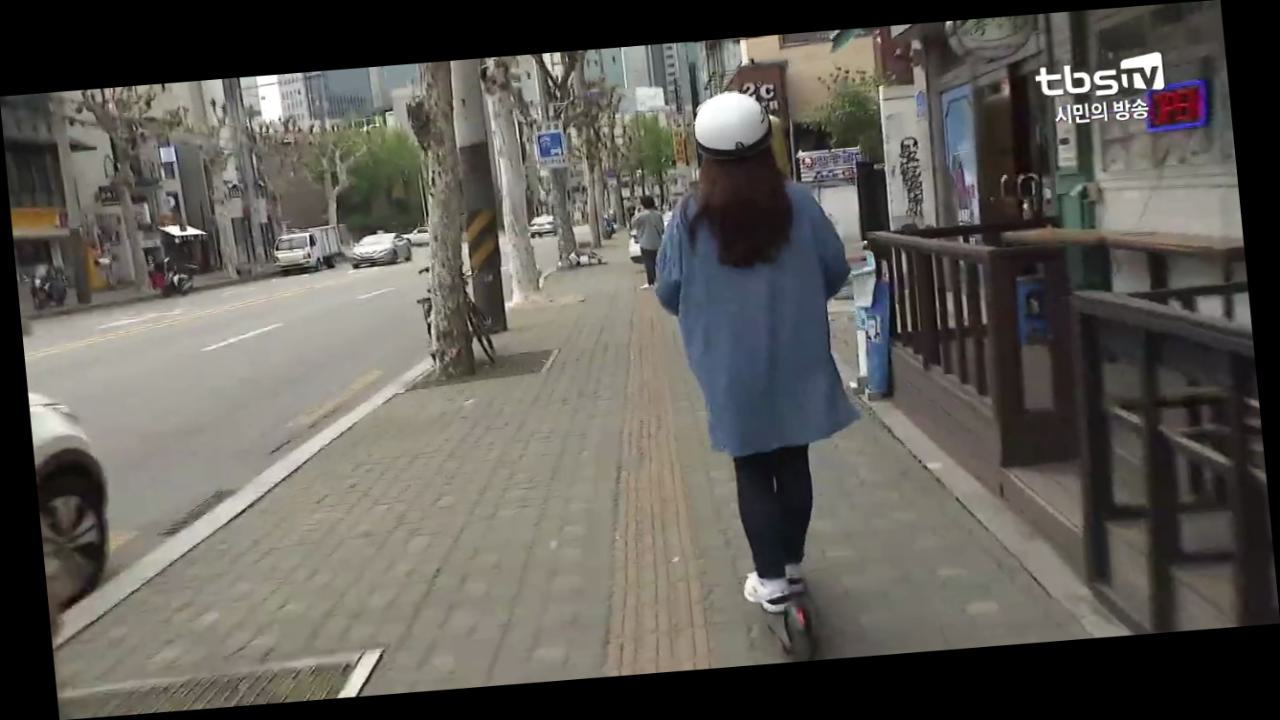helmet: (636, 81, 894, 670)
